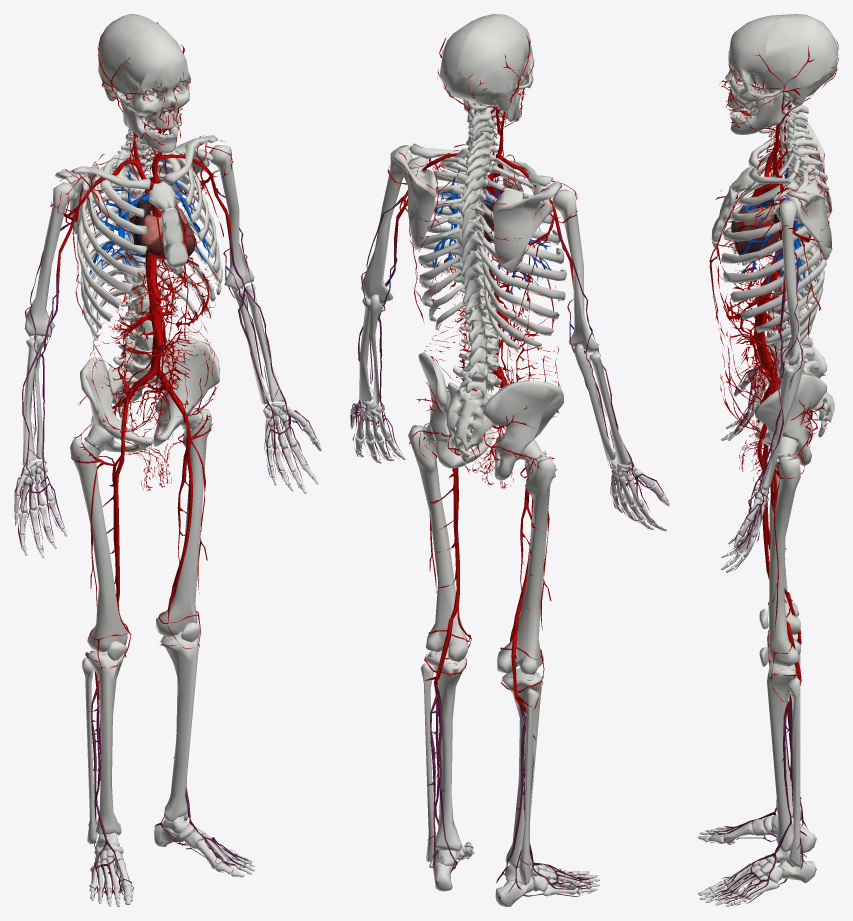
The model's file is arteries.glb.
The picture shows the model from 3 angles, left to right: view 1: azimuth 30°, elevation 25°; view 2: azimuth 150°, elevation 25°; view 3: azimuth 270°, elevation 25°; orthographic projection. The views are drawn at different scales.
Visible parts, largest first — view 1: Right_femur, Left_femur, Left_hip_bone__os_coxa_or_innominate_bone_, Left_tibia, Frontal_bone, Right_tibia, Right_hip_bone__os_coxa_or_innominate_bone_, Right_humerus, Left_humerus, Right_parietal_bone, Right_fibula, Body_of_sternum (+21 smaller); view 2: Right_femur, Left_femur, Right_hip_bone__os_coxa_or_innominate_bone_, Right_parietal_bone, Right_scapula, Left_tibia, Left_hip_bone__os_coxa_or_innominate_bone_, Left_scapula, Right_humerus, Sacrum, Left_humerus, Right_tibia (+14 smaller); view 3: Left_femur, Left_parietal_bone, Left_tibia, Left_hip_bone__os_coxa_or_innominate_bone_, Left_humerus, Frontal_bone, Left_scapula, Left_fibula, Mandible, Left_temporal_bone, Left_radius, Left_6th_rib (+29 smaller).
Part boxes in pixels (left/top/right/bottom): Right_femur: left=70, top=424, right=127, bottom=652; Left_femur: left=156, top=408, right=211, bottom=637; Left_hip_bone__os_coxa_or_innominate_bone_: left=153, top=337, right=219, bottom=446; Left_tibia: left=160, top=630, right=199, bottom=823; Frontal_bone: left=124, top=25, right=190, bottom=92; Right_tibia: left=86, top=650, right=124, bottom=835; Right_hip_bone__os_coxa_or_innominate_bone_: left=80, top=357, right=152, bottom=452; Right_humerus: left=24, top=182, right=75, bottom=337; Left_humerus: left=209, top=145, right=254, bottom=291; Right_parietal_bone: left=98, top=14, right=146, bottom=76; Right_fibula: left=82, top=657, right=97, bottom=844; Body_of_sternum: left=161, top=207, right=187, bottom=267; Right_femur: left=497, top=439, right=555, bottom=674; Left_femur: left=408, top=423, right=468, bottom=661; Right_hip_bone__os_coxa_or_innominate_bone_: left=482, top=381, right=563, bottom=480; Right_parietal_bone: left=457, top=17, right=526, bottom=94; Right_scapula: left=493, top=181, right=561, bottom=273; Left_tibia: left=425, top=649, right=466, bottom=851; Left_hip_bone__os_coxa_or_innominate_bone_: left=418, top=352, right=494, bottom=468; Left_scapula: left=392, top=145, right=436, bottom=250; Right_humerus: left=552, top=189, right=599, bottom=352; Sacrum: left=446, top=382, right=494, bottom=451; Left_humerus: left=361, top=149, right=412, bottom=304; Right_tibia: left=502, top=668, right=542, bottom=868; Left_femur: left=769, top=436, right=800, bottom=666; Left_parietal_bone: left=765, top=18, right=837, bottom=87; Left_tibia: left=767, top=662, right=800, bottom=852; Left_hip_bone__os_coxa_or_innominate_bone_: left=754, top=373, right=827, bottom=465; Left_humerus: left=776, top=200, right=800, bottom=365; Frontal_bone: left=728, top=15, right=776, bottom=78; Left_scapula: left=773, top=181, right=832, bottom=260; Left_fibula: left=786, top=677, right=801, bottom=867; Mandible: left=729, top=92, right=783, bottom=134; Left_temporal_bone: left=754, top=71, right=812, bottom=106; Left_radius: left=761, top=367, right=795, bottom=492; Left_6th_rib: left=723, top=236, right=815, bottom=283.
Bounding box in the file's own units: 0.6476 × 1.7 × 0.2537.
Materials: 465 (464 with a texture image).
